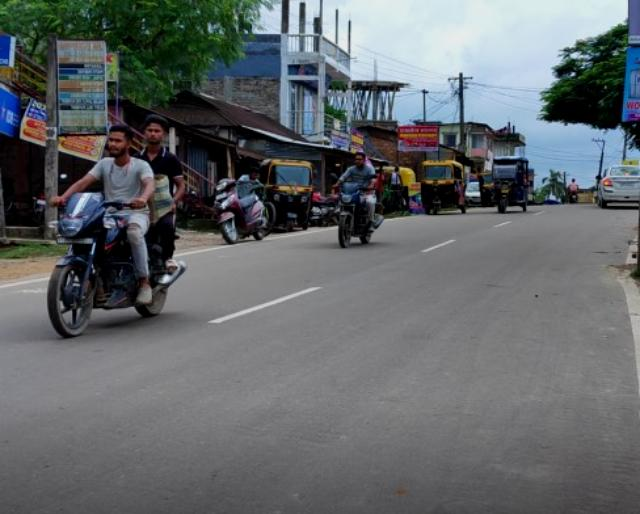licensePlate: (54, 238, 92, 246)
motorcycle: (47, 110, 186, 342), (325, 148, 385, 247)
withoutHelmet: (144, 113, 168, 146), (106, 127, 129, 159), (351, 152, 365, 167)
